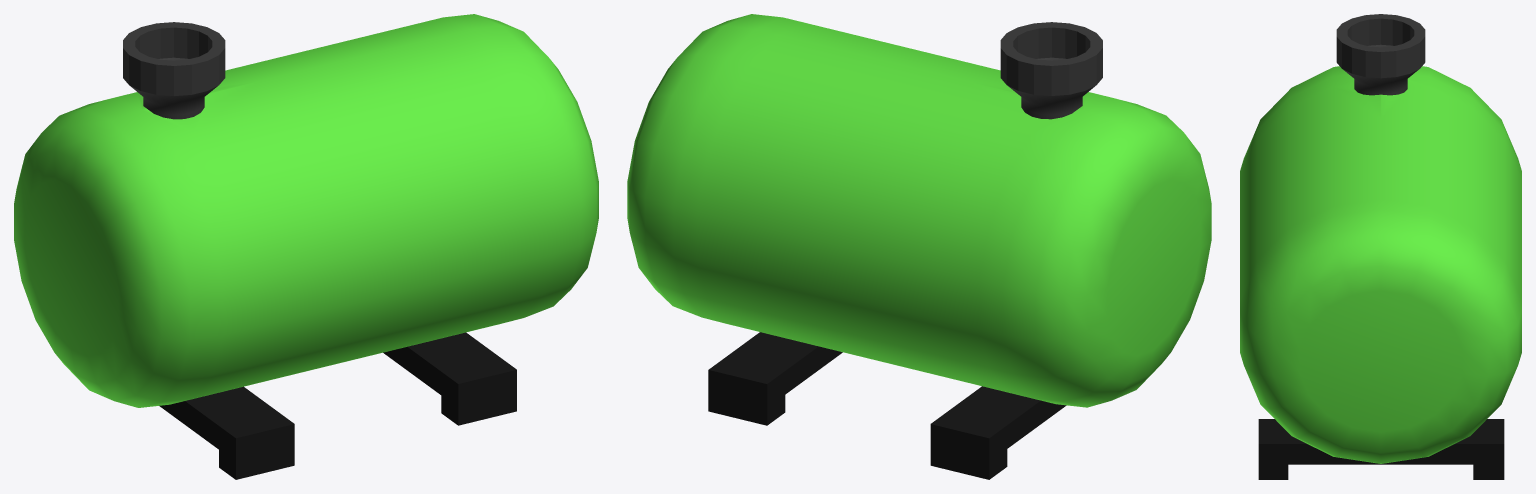
Rendered from MotorMEDIANO.fbx.
3 renders of one model, left to right at view 1: azimuth 30°, elevation 25°; view 2: azimuth 150°, elevation 25°; view 3: azimuth 270°, elevation 25°, orthographic. The views are drawn at different scales.
Visible parts, largest first — view 1: Cylinder001; view 2: Cylinder001; view 3: Cylinder001.
Boxes of the visible parts, box(x1,y1,x2,y2) form: Cylinder001: box(14, 14, 598, 479); Cylinder001: box(627, 14, 1211, 479); Cylinder001: box(1240, 14, 1521, 479).
Size of the model in its own units: 18.29 by 14.22 by 10.95.
